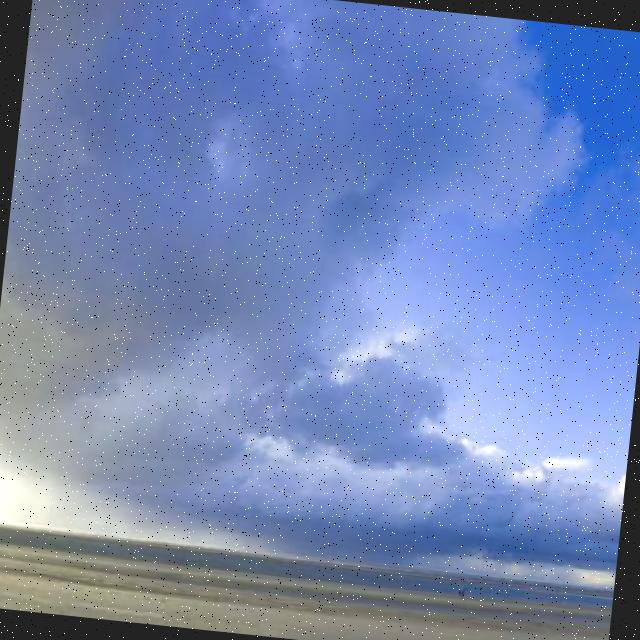Ns: (1, 1, 640, 573)
